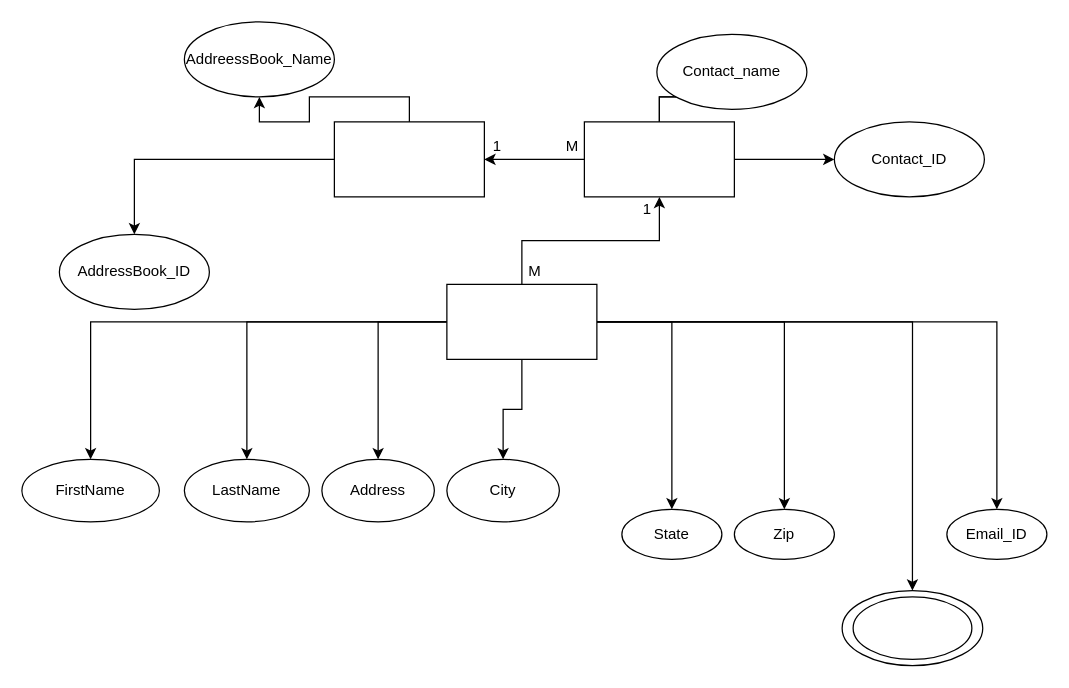
This 1069x688 diagram has some shape labels left out. Each missing label, with the centre of its shape:
AddressBook: the point at 658,159
AddressBook_Diary: the point at 408,159
Contact: the point at 521,321
Phone_Number: the point at 912,627
